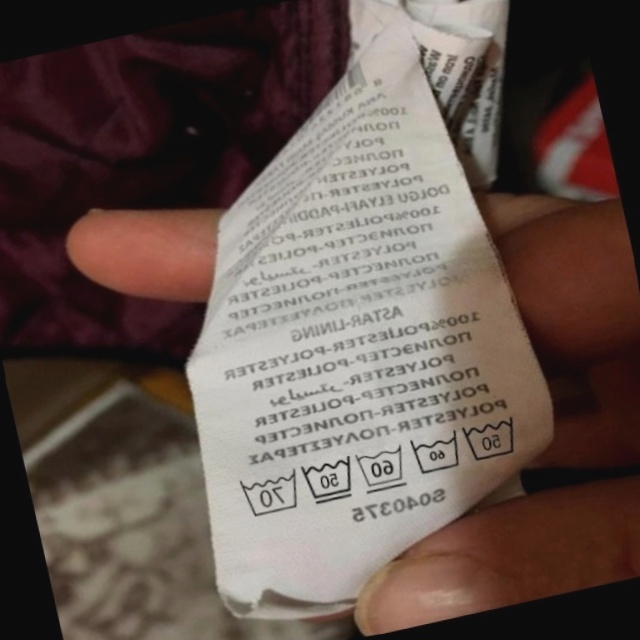50C: (454, 405, 529, 471), (294, 448, 363, 512)
60C: (347, 437, 413, 499), (402, 423, 468, 484)
70C: (230, 463, 306, 525)
